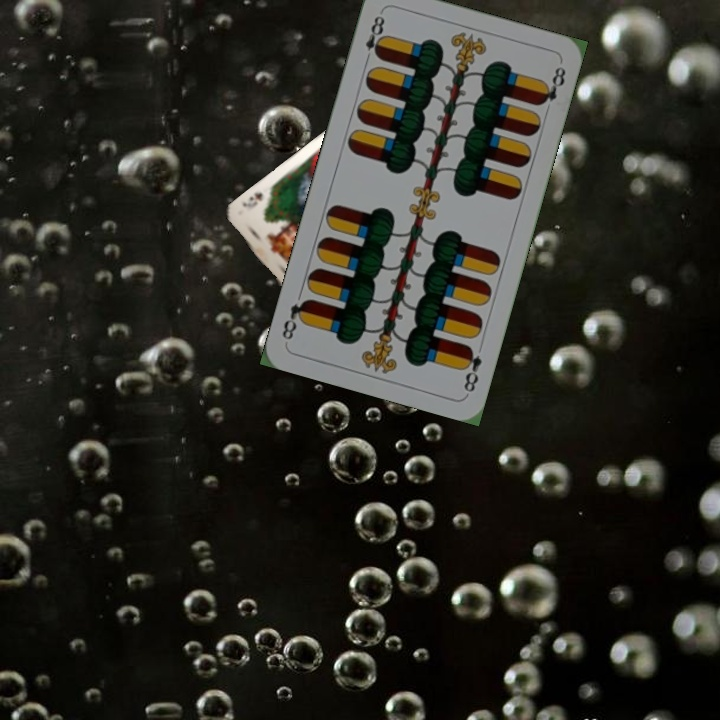E8: (361, 11, 388, 66), (458, 342, 485, 395)
